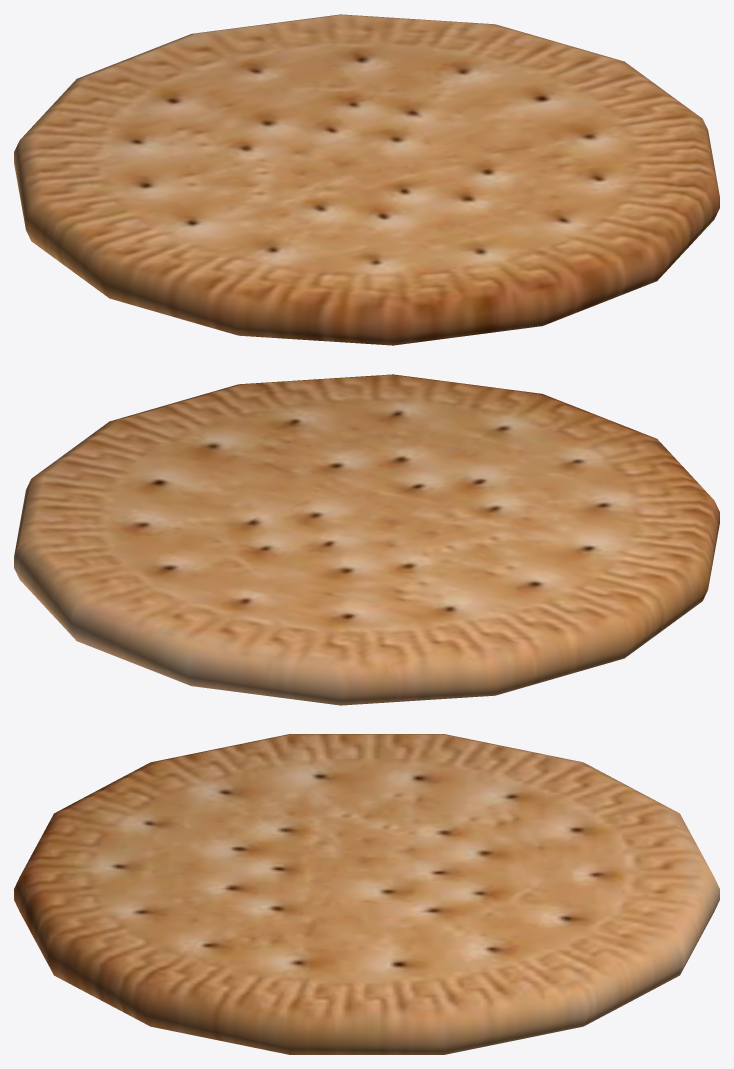
Rendered from candy_waf_12.fbx.
The picture shows the model from 3 angles, top to bottom: view 1: azimuth 30°, elevation 25°; view 2: azimuth 150°, elevation 25°; view 3: azimuth 270°, elevation 25°; orthographic projection.
Visible parts, largest first — view 1: c_w_12; view 2: c_w_12; view 3: c_w_12.
Part boxes in pixels (left/top/right/bottom): c_w_12: left=14, top=14, right=719, bottom=345; c_w_12: left=14, top=374, right=719, bottom=705; c_w_12: left=14, top=734, right=719, bottom=1054.
Bounding box in the file's own units: 173 × 12.36 × 177.
